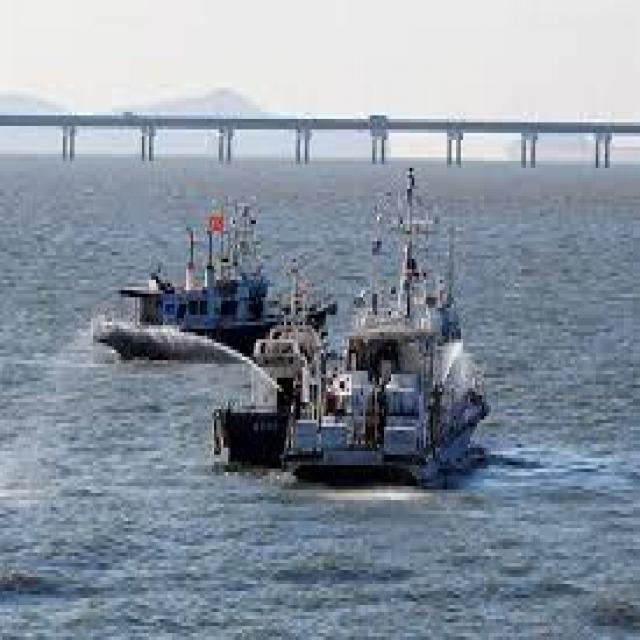Ship: (69, 183, 358, 358), (188, 358, 502, 495)
